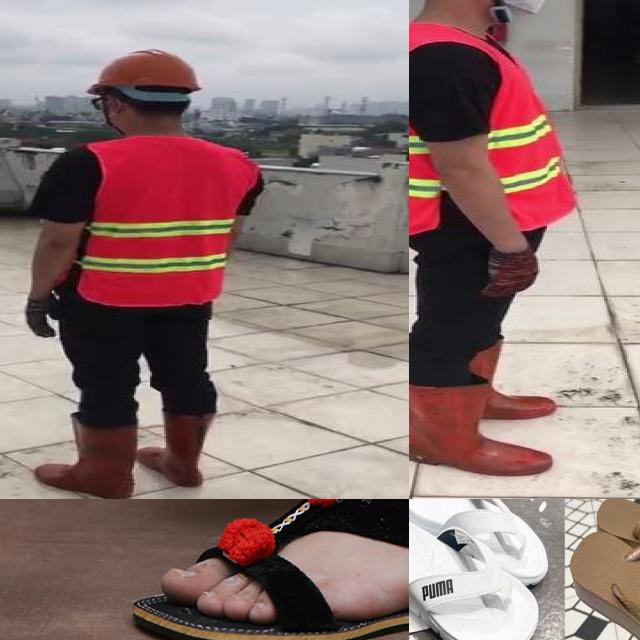Sandals: (134, 499, 409, 640), (409, 499, 553, 640), (554, 499, 640, 640)
boots: (409, 373, 552, 478), (36, 419, 141, 499), (470, 341, 558, 420), (136, 413, 218, 485)
face_mask: (483, 0, 566, 20)
hand_glove: (481, 250, 542, 299), (20, 295, 65, 337)
head_helmet: (83, 46, 208, 95)
person: (10, 45, 275, 499), (409, 0, 596, 484)
vest: (409, 25, 573, 234), (86, 136, 253, 305)
